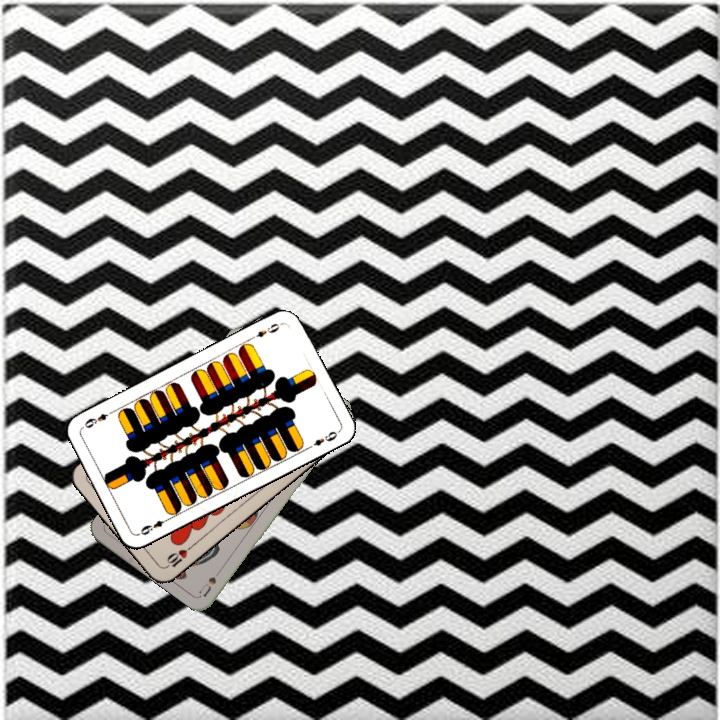E9: (135, 513, 173, 538), (246, 319, 284, 342)
H10: (162, 541, 196, 571)
SU: (195, 562, 226, 599)
